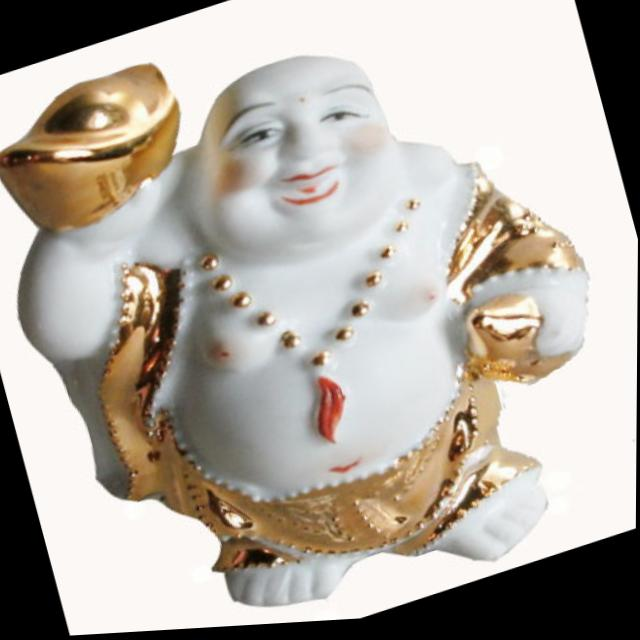Smiling Buddha: (70, 5, 525, 550)
